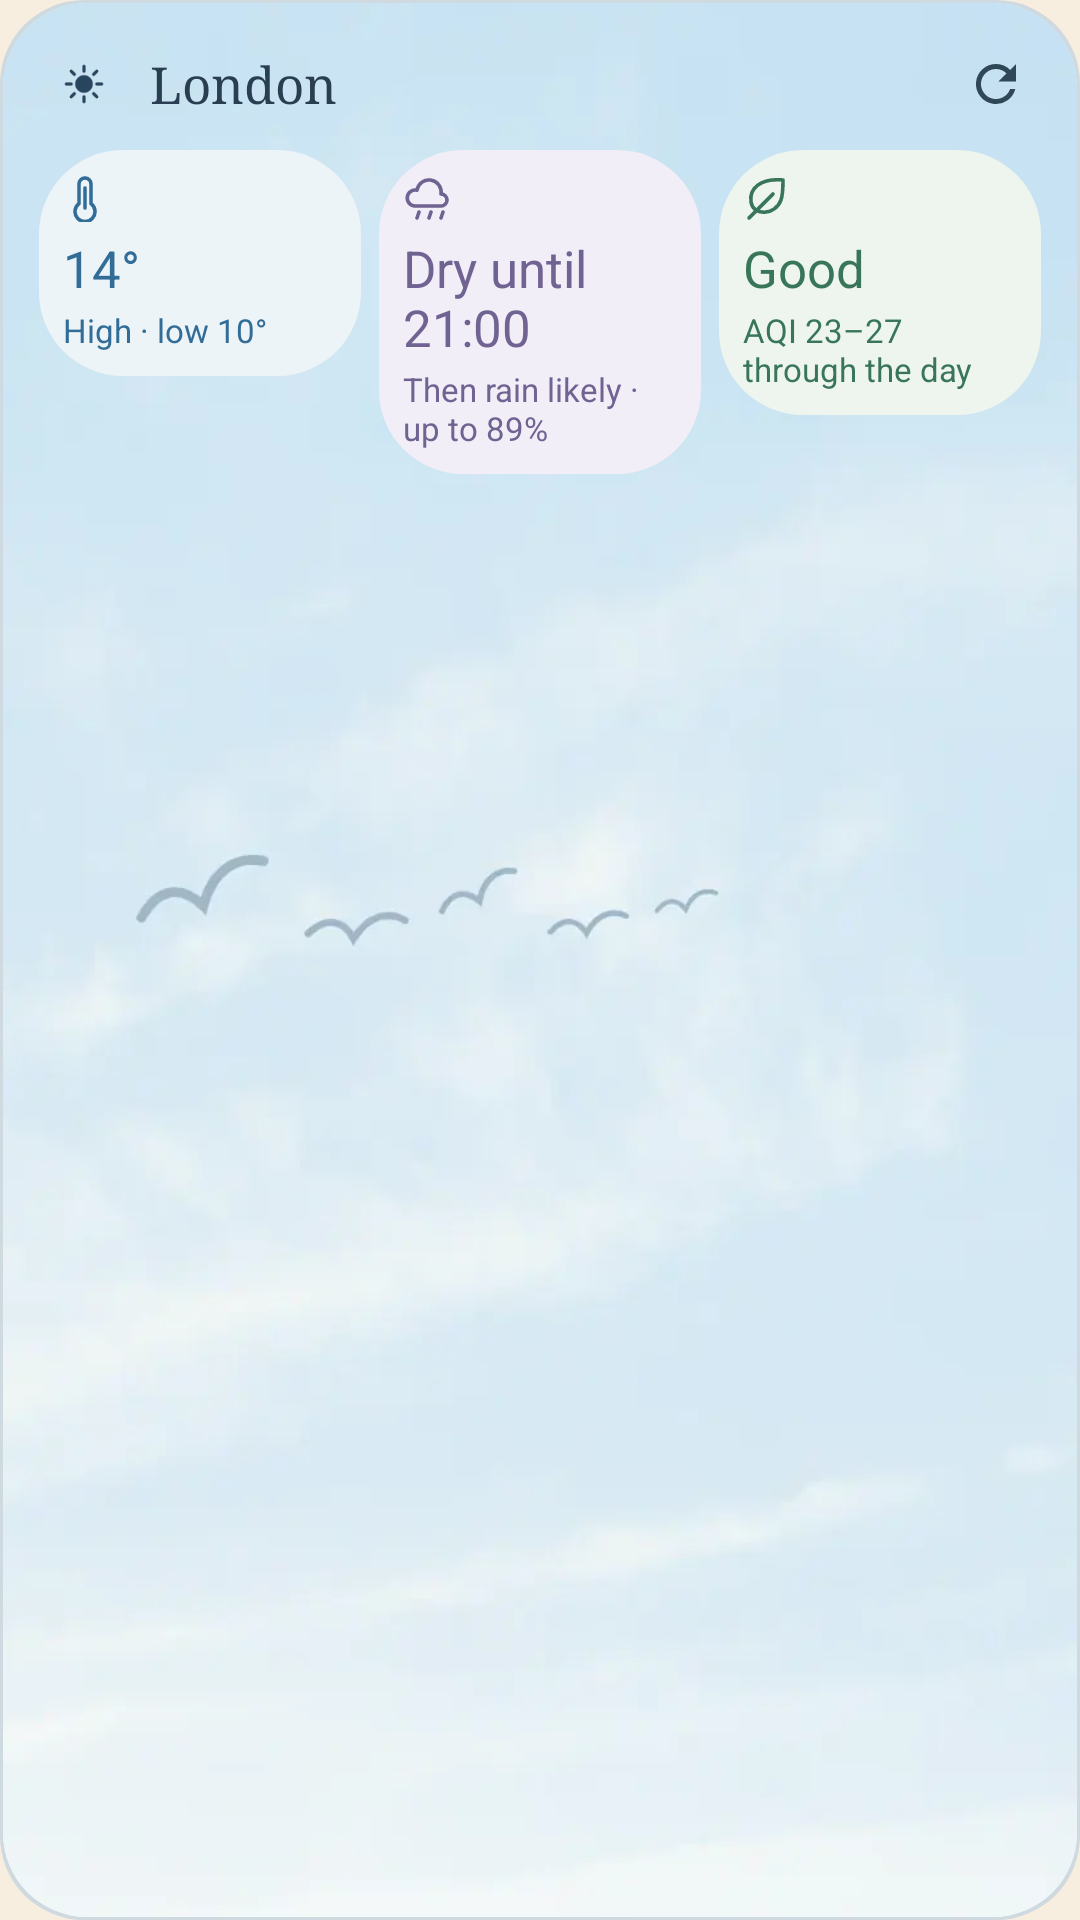

Icon bounding boxes for this 1080*1920 phone screenshot, format rect(x1, y1, x2, y2):
leaf: rect(747, 178, 785, 220)
refresh: rect(976, 64, 1016, 104)
sun: rect(64, 64, 104, 104)
thermometer: rect(73, 176, 97, 222)
